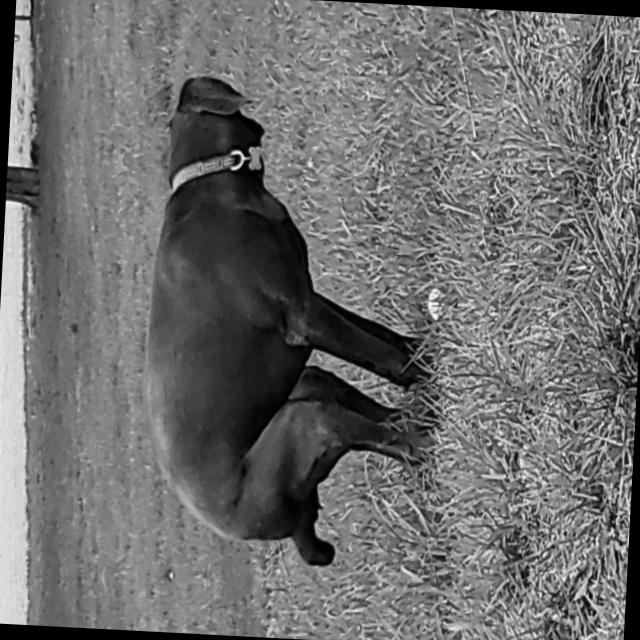squatting: (132, 65, 460, 590)
